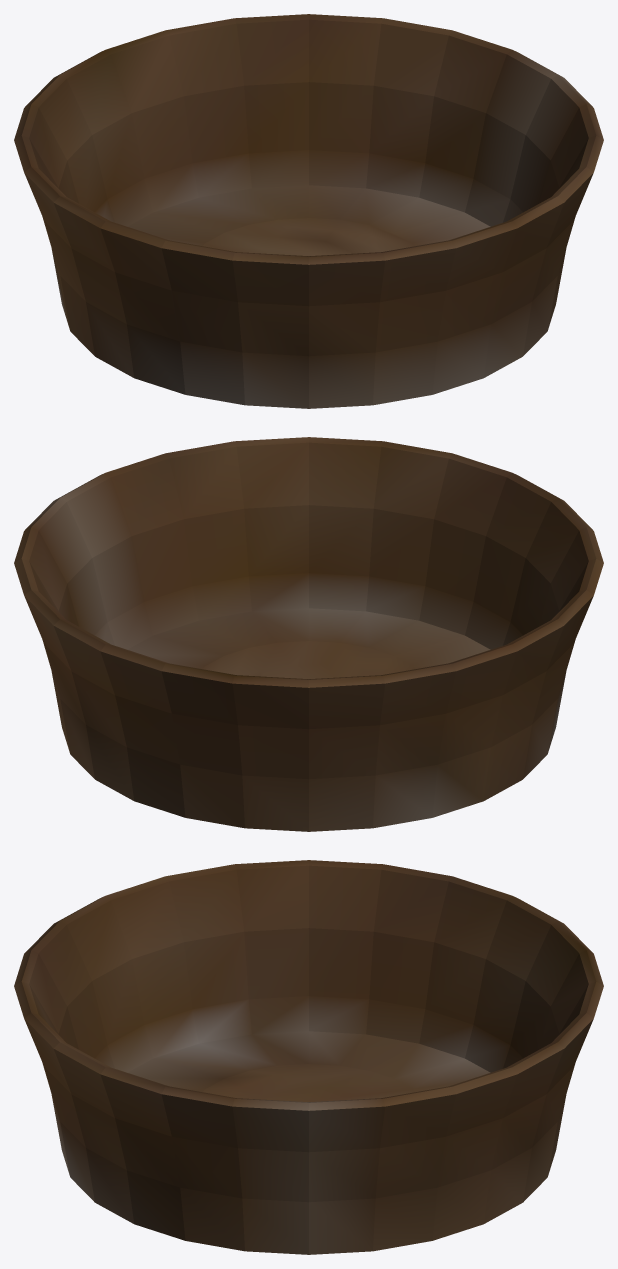
File: basket_f097383b.glb
3 renders of one model, top to bottom at view 1: azimuth 30°, elevation 25°; view 2: azimuth 150°, elevation 25°; view 3: azimuth 270°, elevation 25°, orthographic.
Visible parts, largest first — view 1: SM_Basket01a_M_Basket01a_0; view 2: SM_Basket01a_M_Basket01a_0; view 3: SM_Basket01a_M_Basket01a_0.
Boxes of the visible parts, x1=… form: SM_Basket01a_M_Basket01a_0: x1=14, y1=14, x2=603, y2=408; SM_Basket01a_M_Basket01a_0: x1=14, y1=437, x2=603, y2=831; SM_Basket01a_M_Basket01a_0: x1=14, y1=860, x2=603, y2=1254.
Size of the model in its own units: 0.6652 by 0.2103 by 0.6652.
